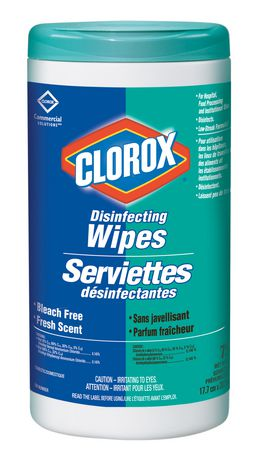Wipes: (21, 14, 237, 443)
